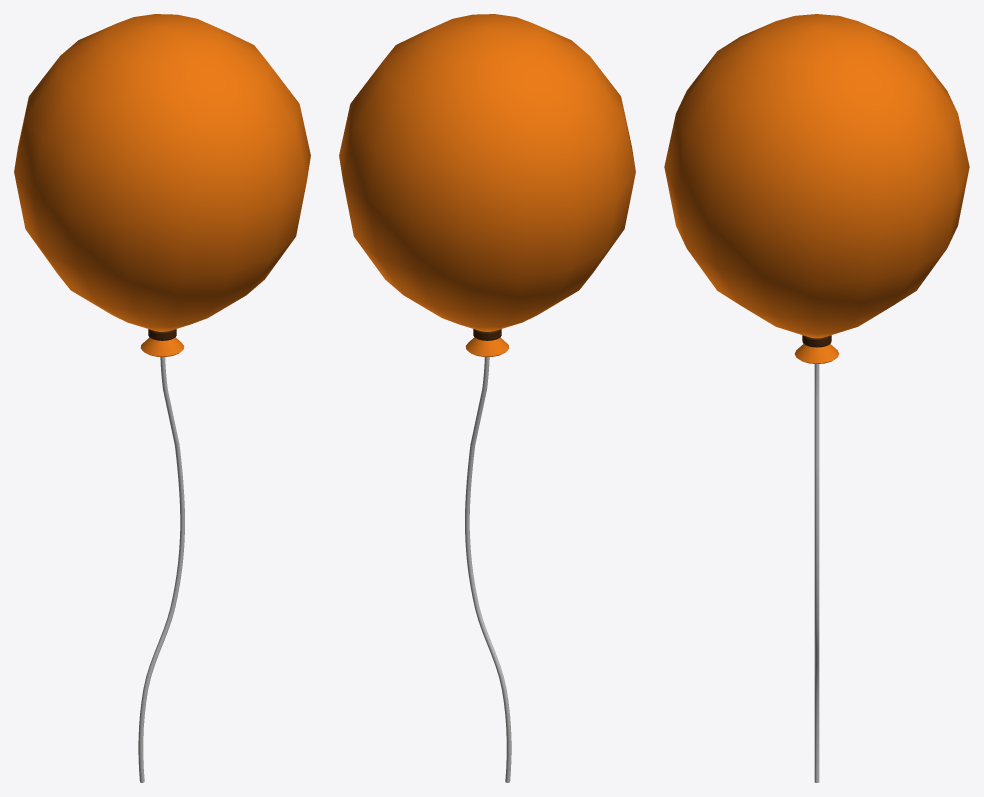
The model's file is Balloon_Orange.FBX.
The picture shows the model from 3 angles, left to right: view 1: azimuth 30°, elevation 25°; view 2: azimuth 150°, elevation 25°; view 3: azimuth 270°, elevation 25°; orthographic projection.
Parts seen in each view (by area): view 1: Sphere001; view 2: Sphere001; view 3: Sphere001.
Part boxes in pixels (x1,y1,x2,y2): Sphere001: [14, 14, 310, 782]; Sphere001: [339, 14, 635, 782]; Sphere001: [664, 14, 969, 782].
Size of the model in its own units: 62.15 by 172 by 62.15.
